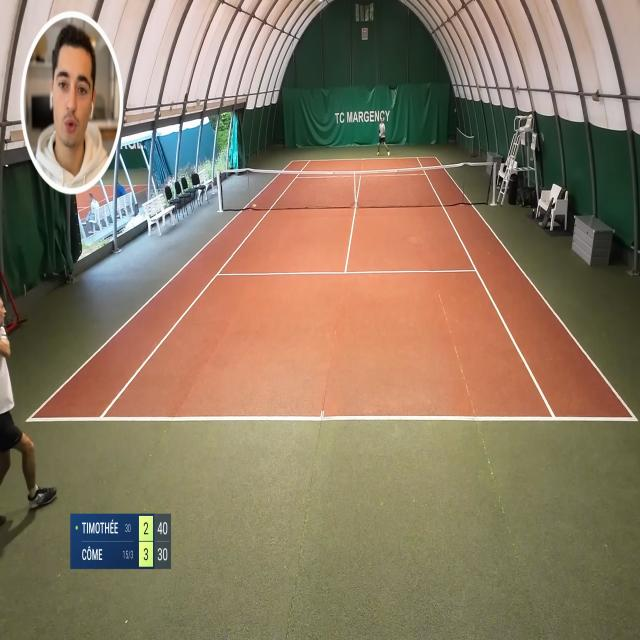ball: (252, 204, 256, 208)
